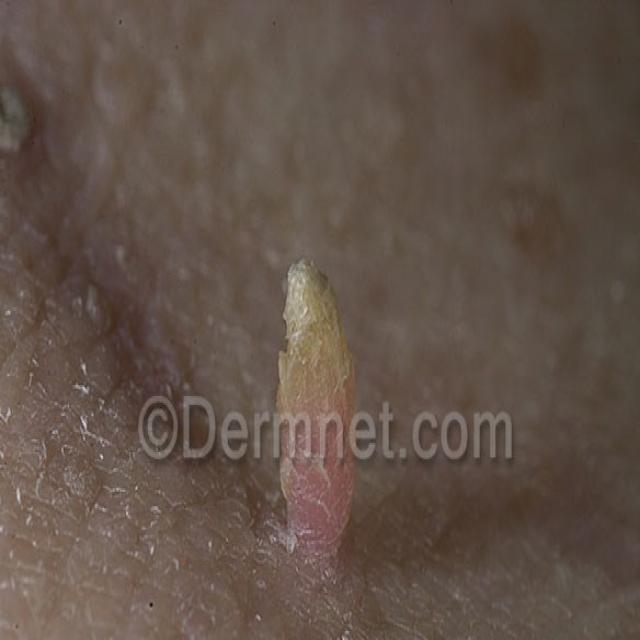Warts: (229, 231, 421, 555), (0, 45, 49, 180)
